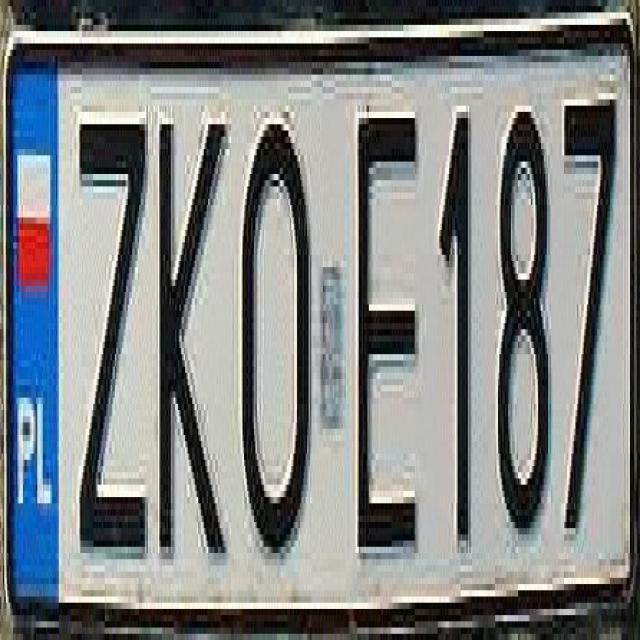License_Plate: (16, 14, 637, 615)
